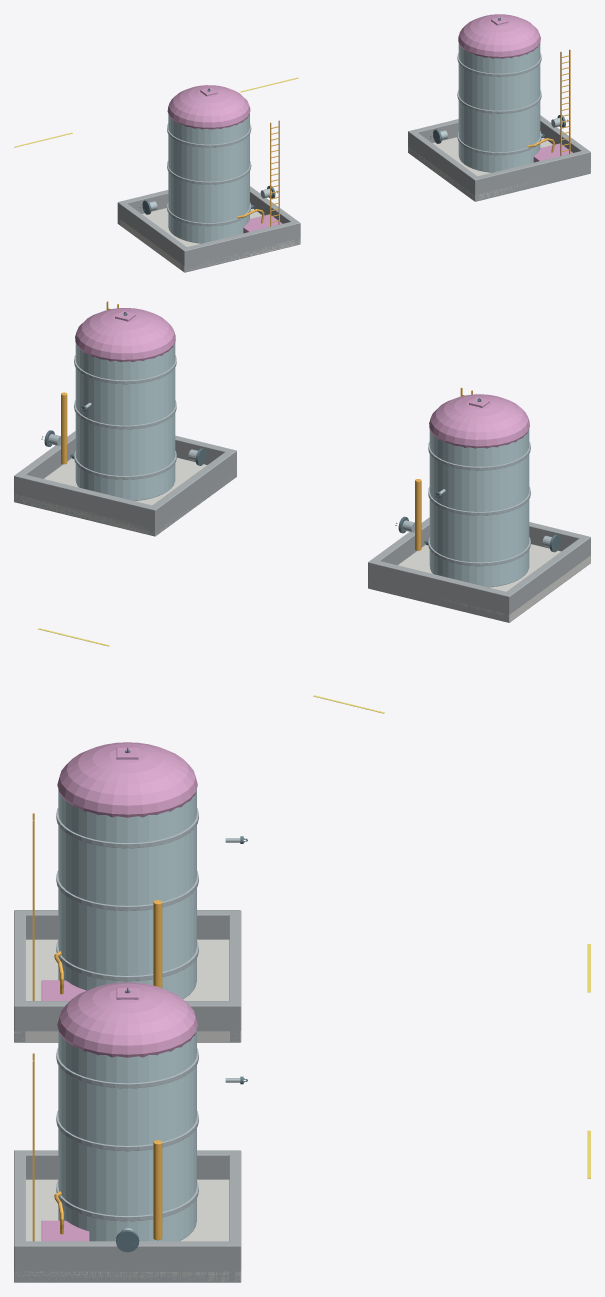
3 views of the same model, one above another, from view 1: azimuth 30°, elevation 25°; view 2: azimuth 150°, elevation 25°; view 3: azimuth 270°, elevation 25° (orthographic). The views are drawn at different scales.
Visible parts, largest first — view 1: render-batch-3, render-batch-1, render-batch-4, render-batch-5, render-batch-2, render-batch-6, render-batch-0; view 2: render-batch-3, render-batch-1, render-batch-4, render-batch-5, render-batch-2, render-batch-6, render-batch-0; view 3: render-batch-3, render-batch-1, render-batch-4, render-batch-5, render-batch-2, render-batch-6.
Part boxes in pixels (x1,y1,x2,y2): render-batch-3: (168, 43, 540, 243); render-batch-1: (117, 115, 590, 272); render-batch-4: (167, 14, 572, 233); render-batch-5: (118, 137, 590, 272); render-batch-2: (149, 53, 562, 226); render-batch-6: (236, 49, 570, 226); render-batch-0: (139, 17, 568, 214); render-batch-3: (75, 343, 529, 587); render-batch-1: (14, 431, 590, 622); render-batch-4: (75, 308, 529, 448); render-batch-5: (14, 457, 590, 622); render-batch-2: (48, 355, 551, 566); render-batch-6: (61, 301, 472, 550); render-batch-0: (41, 312, 563, 552); render-batch-3: (58, 789, 196, 1241); render-batch-1: (14, 910, 241, 1282); render-batch-4: (41, 742, 197, 1241); render-batch-5: (14, 939, 241, 1281); render-batch-2: (56, 808, 240, 1231); render-batch-6: (32, 813, 162, 1241).
Bounding box in the file's own units: 23.55 × 7.67 × 16.25.
